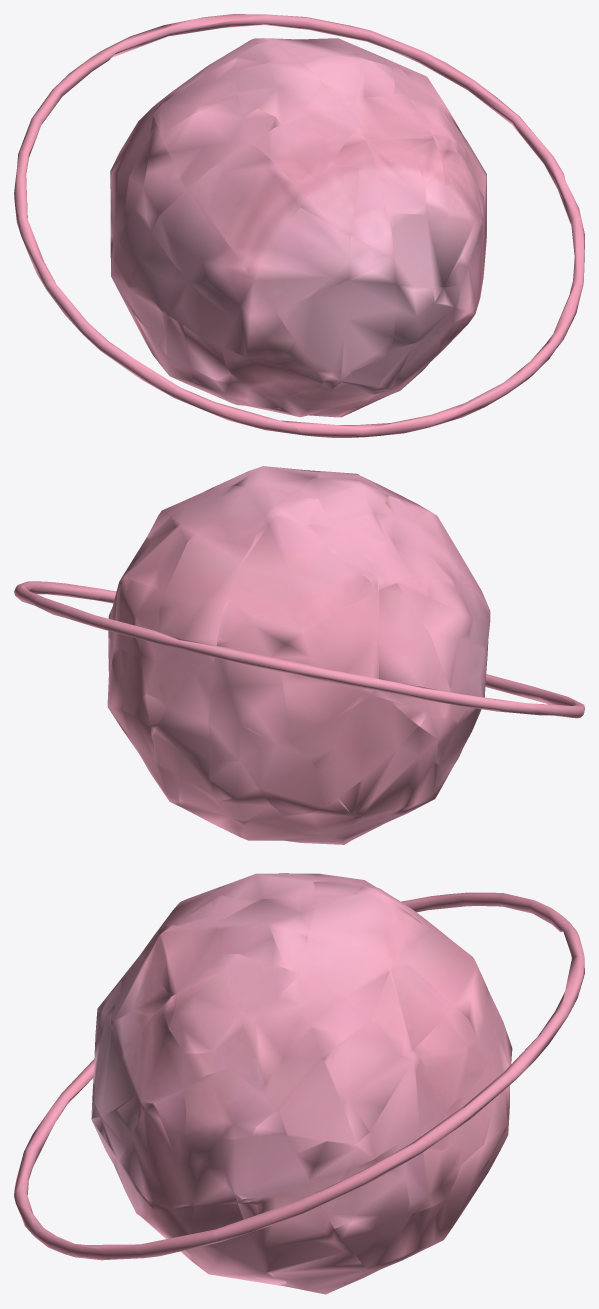
File: node-core.glb
The picture shows the model from 3 angles, top to bottom: view 1: azimuth 30°, elevation 25°; view 2: azimuth 150°, elevation 25°; view 3: azimuth 270°, elevation 25°; orthographic projection. The views are drawn at different scales.
Parts seen in each view (by area): view 1: mesh_node; view 2: mesh_node; view 3: mesh_node.
Part boxes in pixels (box(x1,y1,x2,y2)): mesh_node: box(14, 14, 584, 437); mesh_node: box(14, 466, 584, 844); mesh_node: box(14, 873, 584, 1294).
Size of the model in its own units: 1.9 by 1.21 by 1.67.
1 material, 1 textured.
